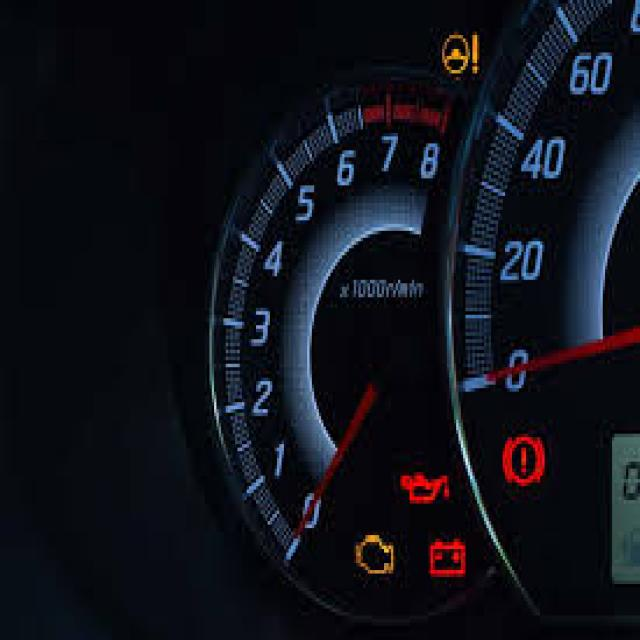kontrolka: (492, 418, 562, 509), (387, 449, 462, 526), (418, 537, 480, 603), (336, 526, 397, 586), (436, 22, 481, 92)
